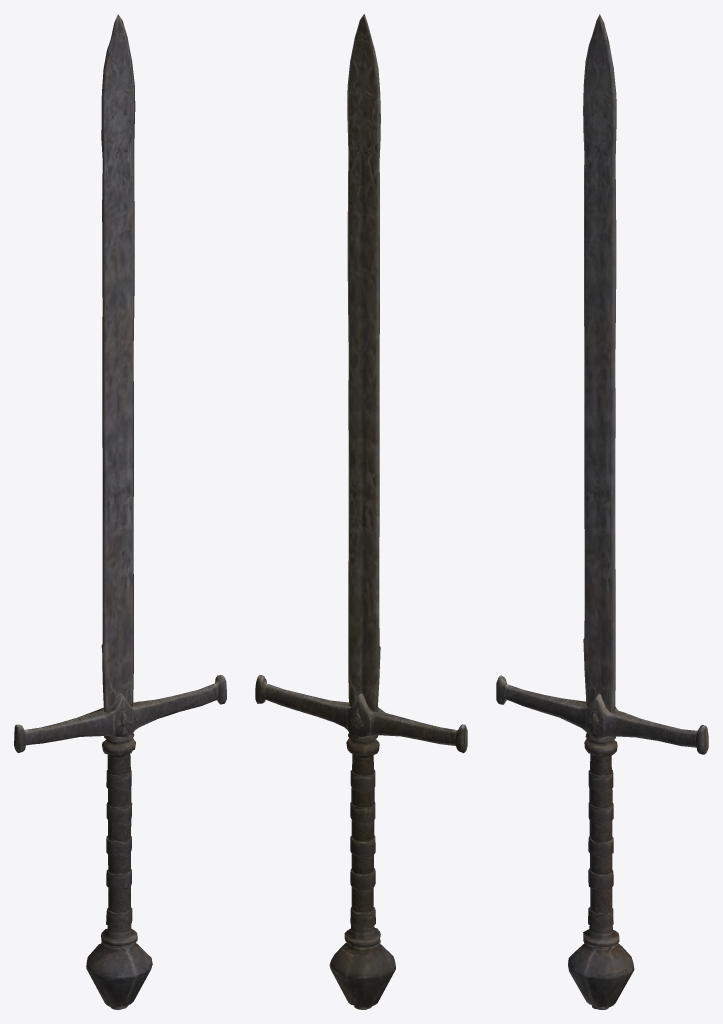
Rendered from skeleton_blade.glb.
3 renders of one model, left to right at view 1: azimuth 30°, elevation 25°; view 2: azimuth 150°, elevation 25°; view 3: azimuth 330°, elevation 25°, orthographic.
Visible parts, largest first — view 1: skeleton_blade; view 2: skeleton_blade; view 3: skeleton_blade.
Boxes of the visible parts, x1,y1,x2,y2 form: skeleton_blade: [14, 14, 226, 1009]; skeleton_blade: [255, 14, 467, 1009]; skeleton_blade: [496, 14, 708, 1009].
Bounding box in the file's own units: 0.3293 × 1.5 × 0.0907.
Materials: 1 (1 with a texture image).
